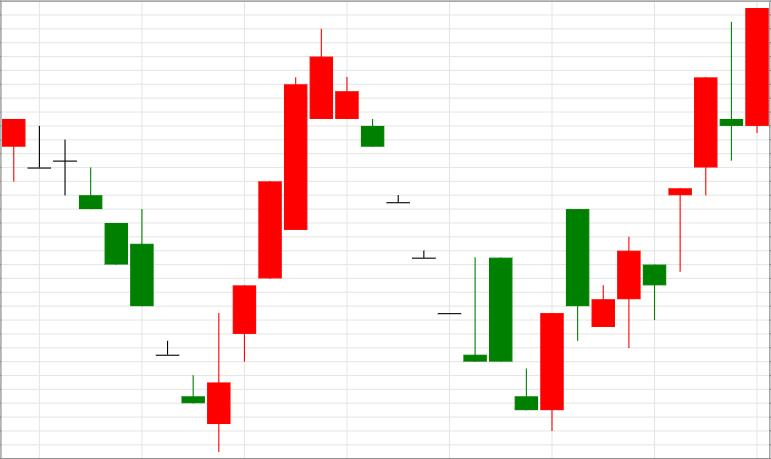bullish_engulfing_rise: (361, 119, 564, 433), (52, 138, 231, 452)
